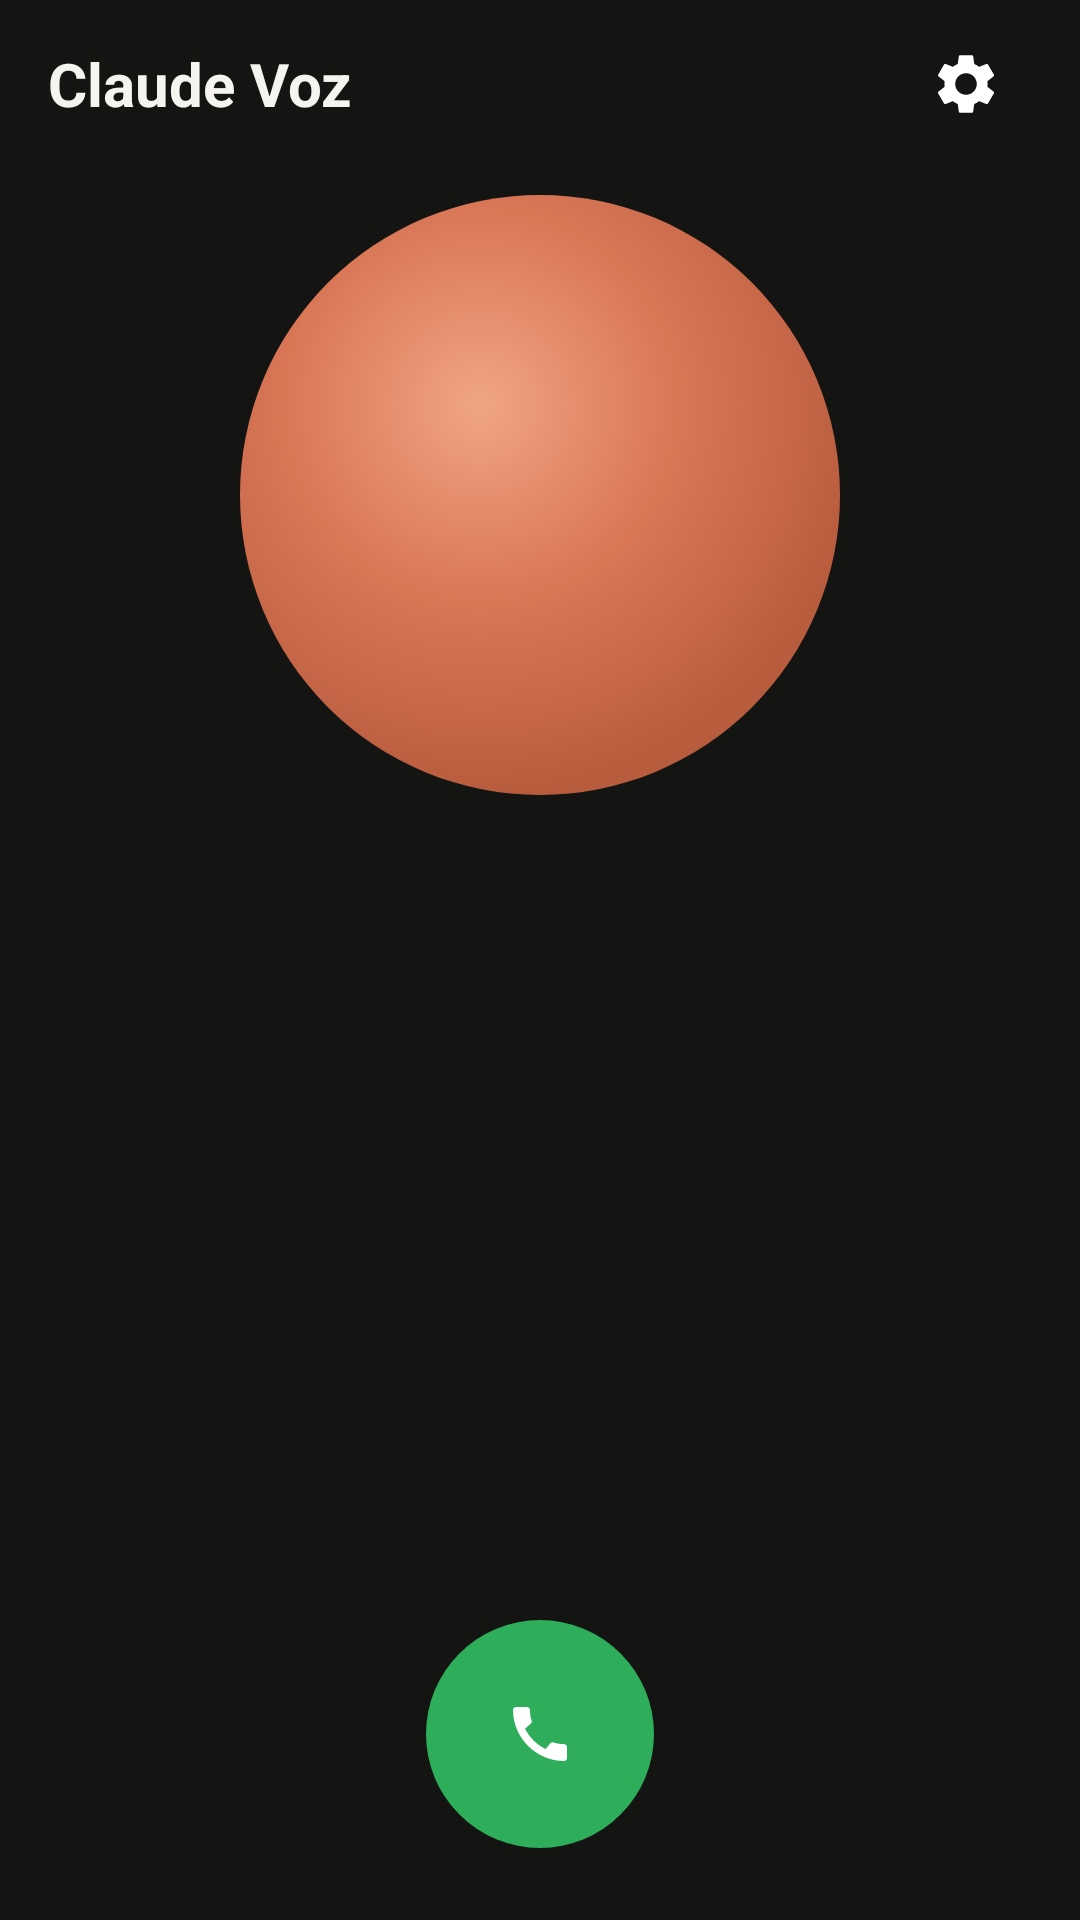

Point at icon controls on the screen. Image size 1080×1920, points as point (x, y).
Configurações: point (966, 84)
Ligar: point (540, 1734)
